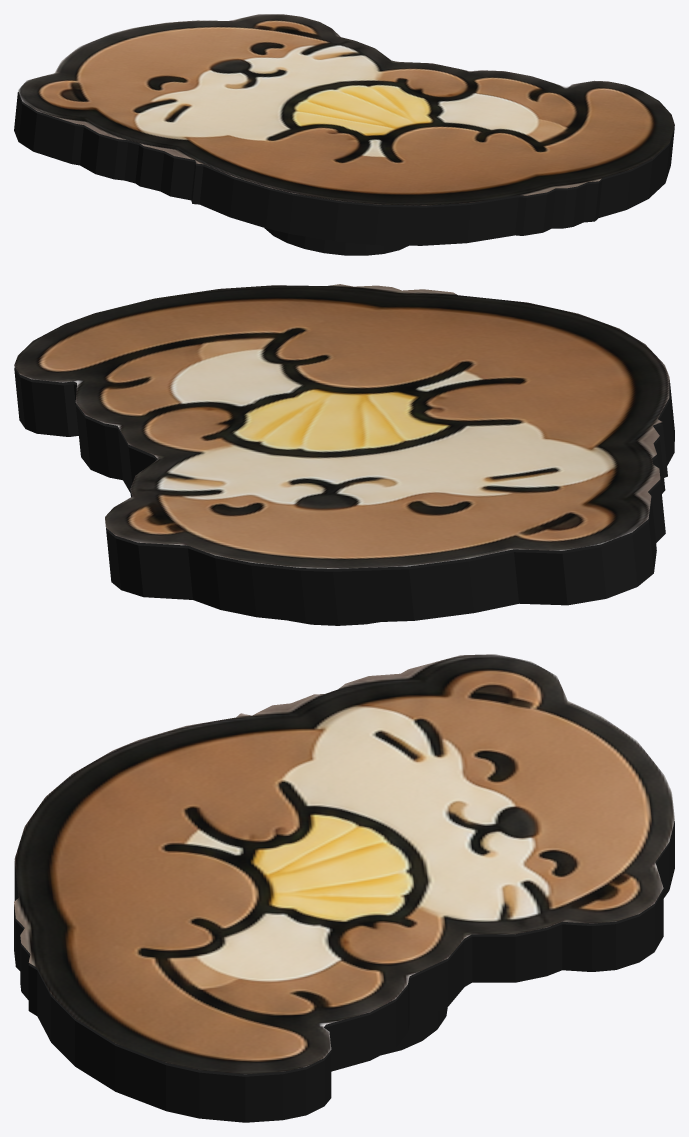
The model's file is animals-otter.glb.
3 renders of one model, top to bottom at view 1: azimuth 30°, elevation 25°; view 2: azimuth 150°, elevation 25°; view 3: azimuth 270°, elevation 25°, orthographic. The views are drawn at different scales.
Visible parts, largest first — view 1: ANIMALS_Otter_MODEL; view 2: ANIMALS_Otter_MODEL; view 3: ANIMALS_Otter_MODEL.
Part boxes in pixels (x1=…): ANIMALS_Otter_MODEL: x1=14, y1=14, x2=674, y2=255; ANIMALS_Otter_MODEL: x1=14, y1=284, x2=674, y2=625; ANIMALS_Otter_MODEL: x1=14, y1=654, x2=674, y2=1122.
Bounding box in the file's own units: 0.3868 × 0.1033 × 0.3139.
3 materials, 1 textured.
